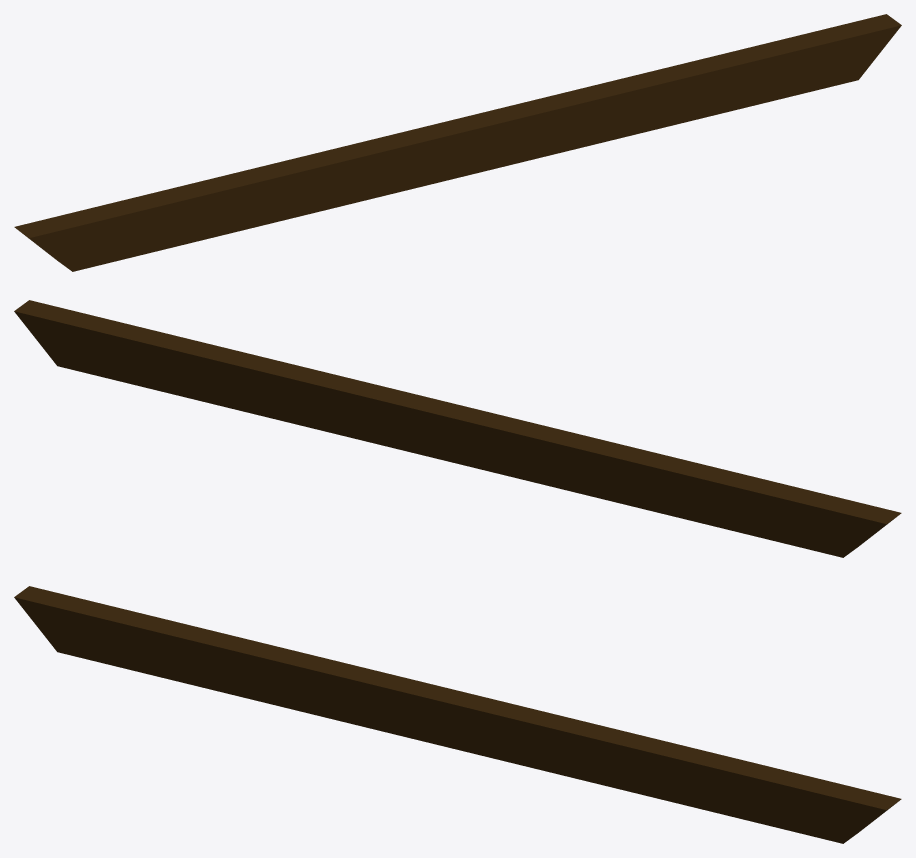
File: PlankRoof1.glb
3 renders of one model, top to bottom at view 1: azimuth 30°, elevation 25°; view 2: azimuth 150°, elevation 25°; view 3: azimuth 330°, elevation 25°, orthographic.
Visible parts, largest first — view 1: PlankRoof1; view 2: PlankRoof1; view 3: PlankRoof1.
Part boxes in pixels (x1,y1,x2,y2): PlankRoof1: [14, 14, 901, 271]; PlankRoof1: [14, 300, 901, 557]; PlankRoof1: [14, 586, 901, 843].
Bounding box in the file's own units: 10.67 × 0.5182 × 0.325.
